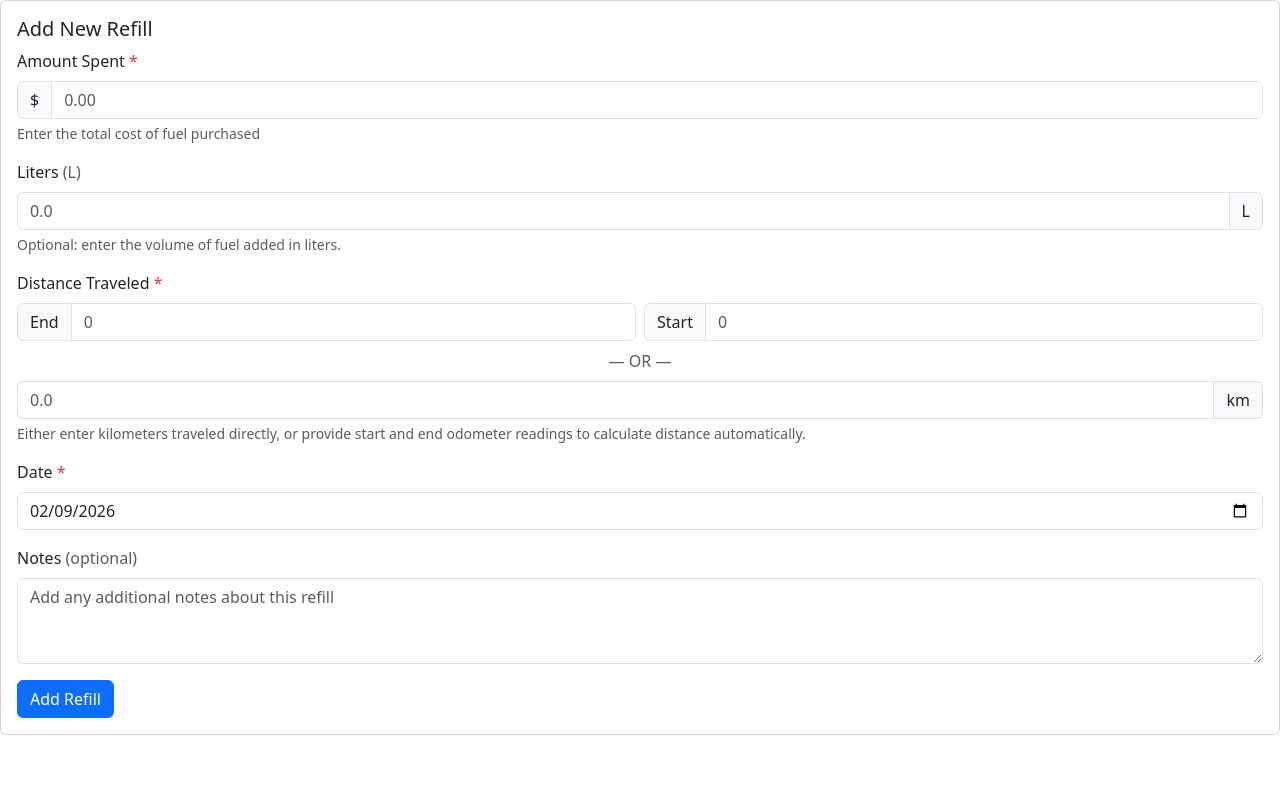
Test: RefillForm › Create Mode › displays validation error for negative amount
Note: Fill in required fields
In the number field labelled "Amount Spent *": (657, 100) [51,81,1263,119], type "-50"
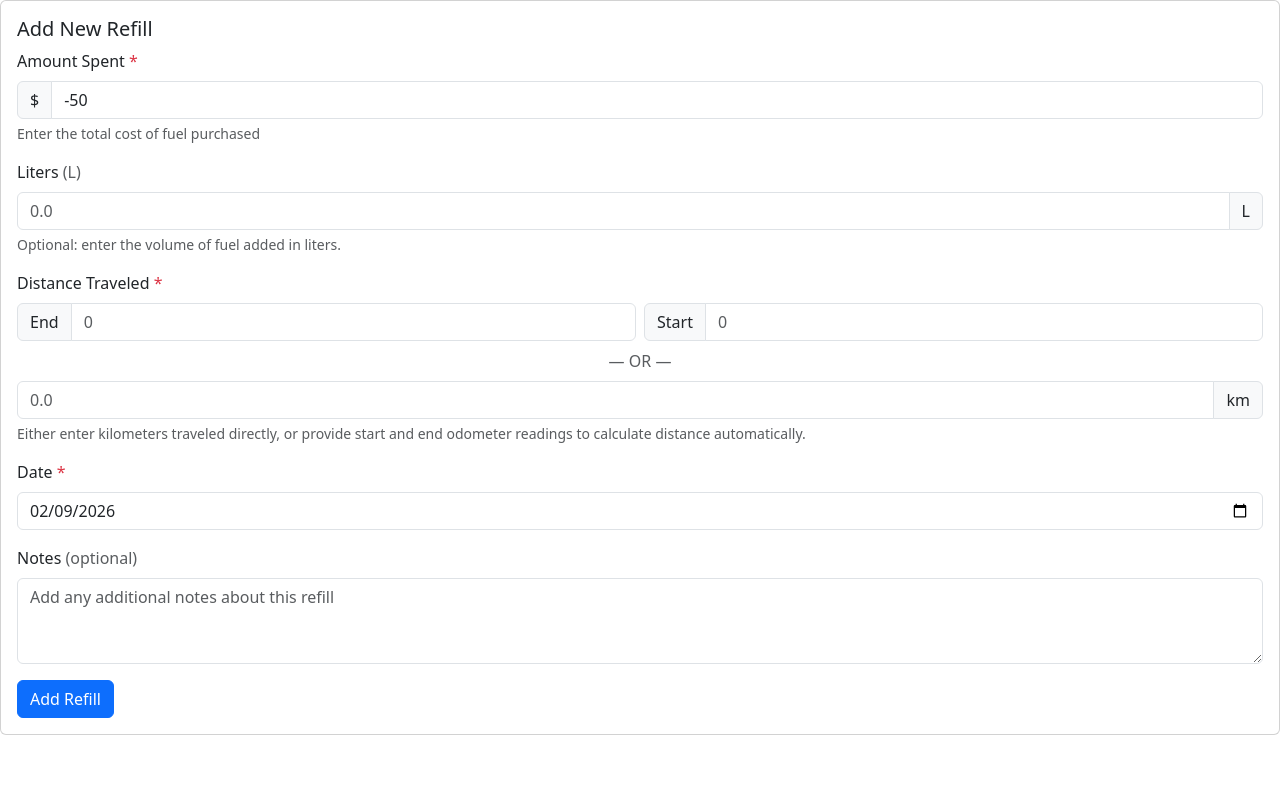
In the number field labelled "Distance Traveled *": (616, 400) [17,381,1214,419], type "100"
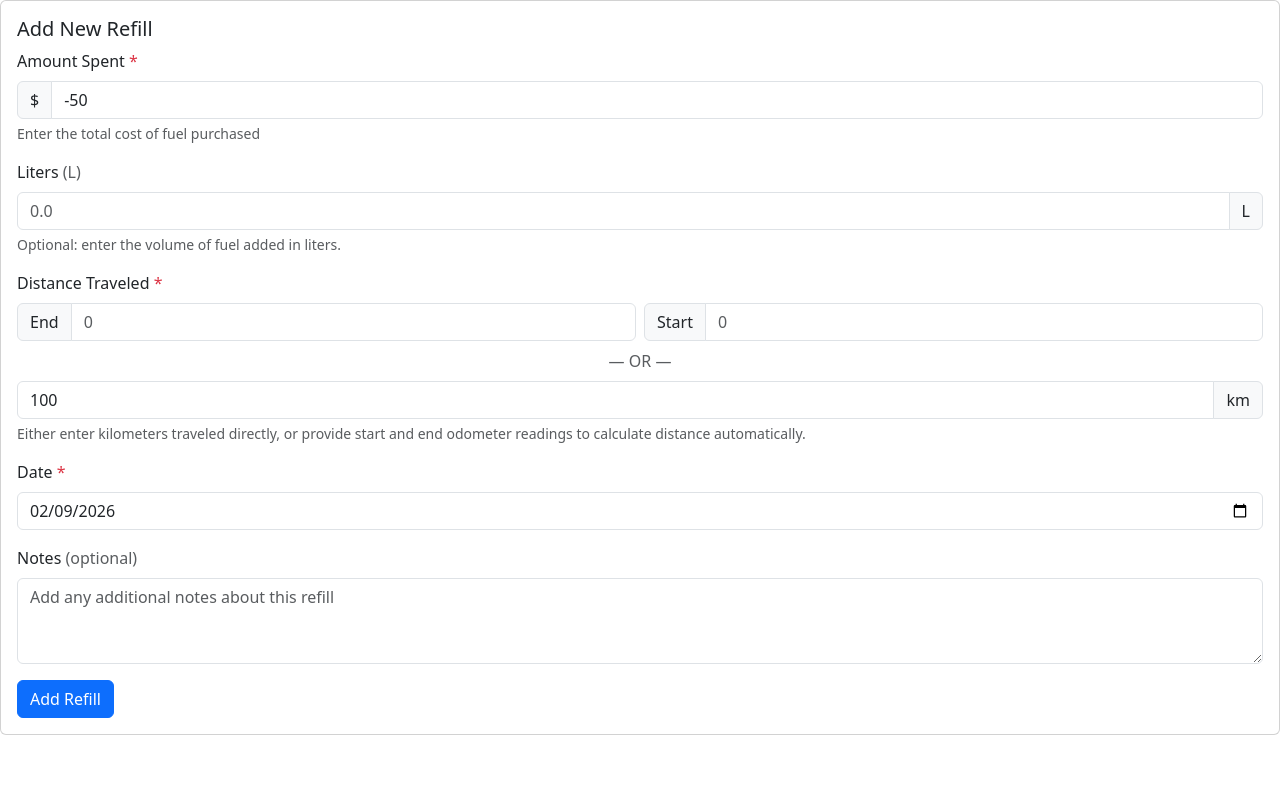
In the date field labelled "Date *": (640, 511) [17,492,1263,530], type "2024-01-15"
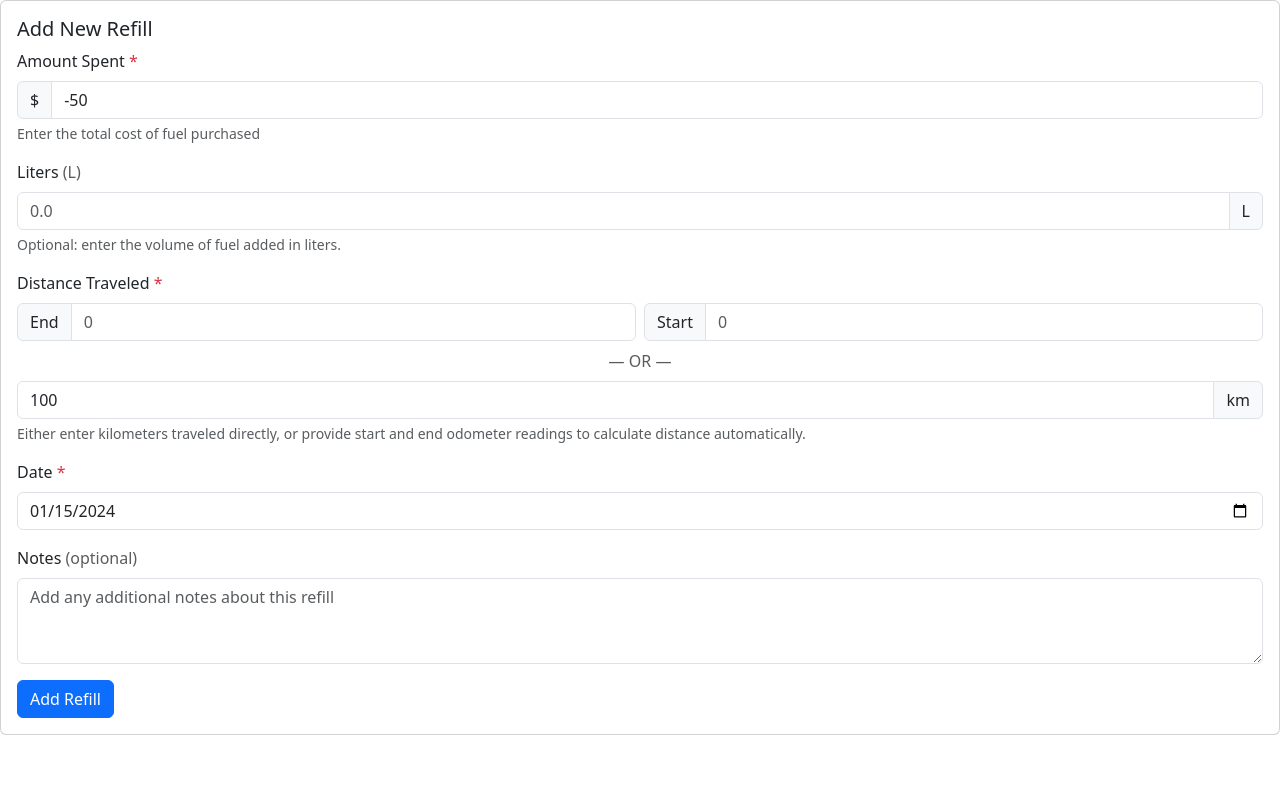
Click the button "Add Refill": (65, 699) [17,680,114,718]
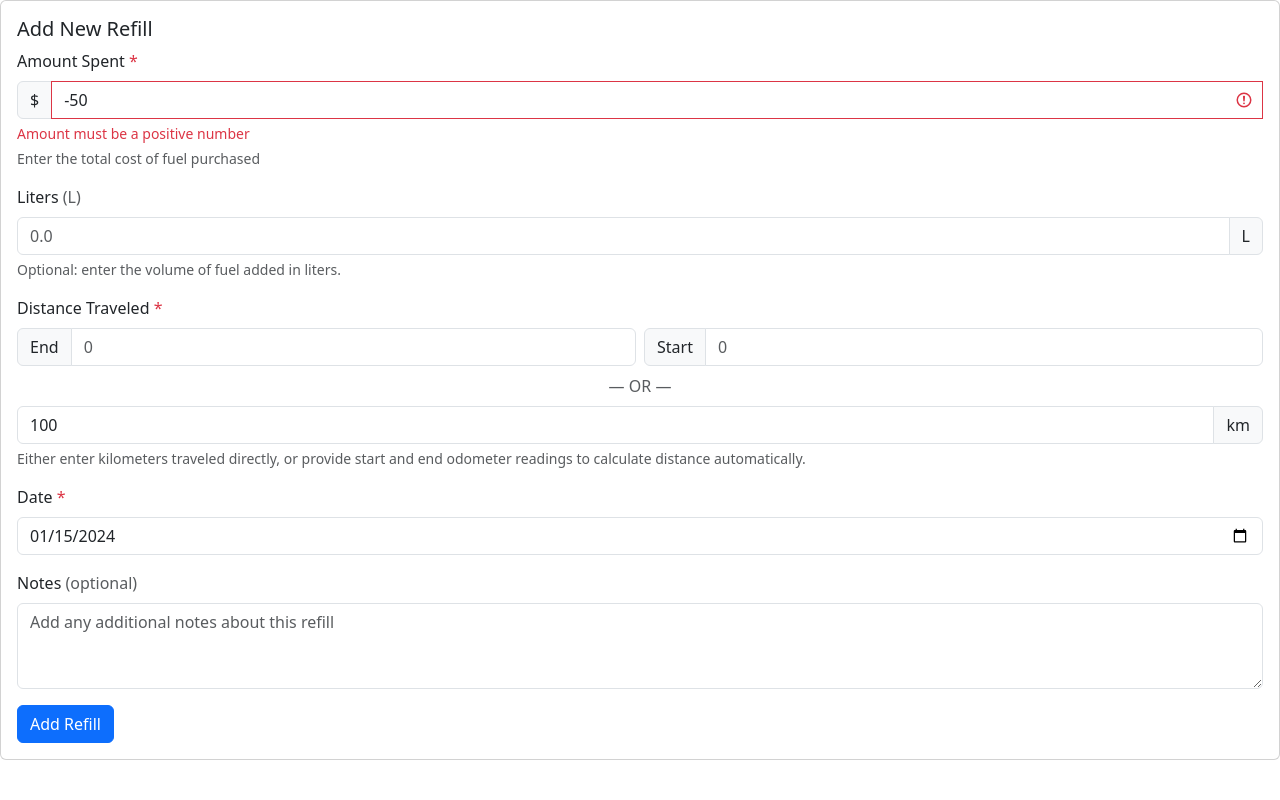
Check: the text "Amount must be a positive number" is shown, box [17,124,250,143]
